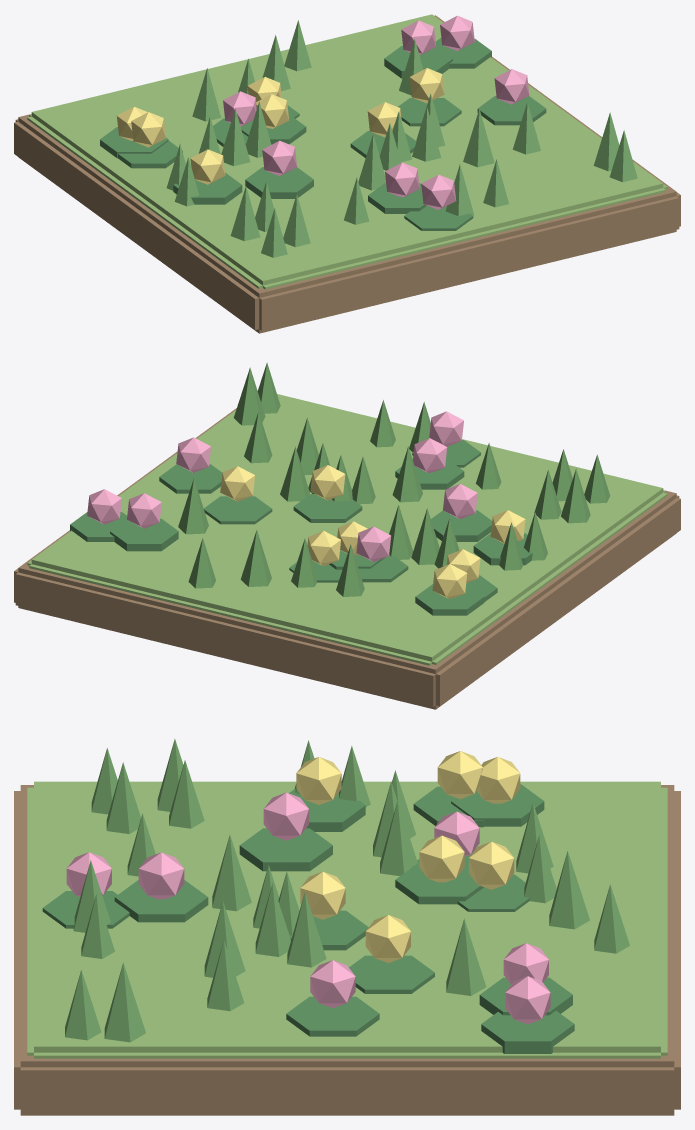
The model's file is HOB_Tile_FlowerGrass.fbx.
The picture shows the model from 3 angles, top to bottom: view 1: azimuth 30°, elevation 25°; view 2: azimuth 150°, elevation 25°; view 3: azimuth 270°, elevation 25°; orthographic projection. The views are drawn at different scales.
Parts seen in each view (by area): view 1: HOB_Tile_FlowerGrass; view 2: HOB_Tile_FlowerGrass; view 3: HOB_Tile_FlowerGrass.
Part boxes in pixels (<box>): HOB_Tile_FlowerGrass: <box>14,14,680,333</box>; HOB_Tile_FlowerGrass: <box>14,362,680,709</box>; HOB_Tile_FlowerGrass: <box>14,739,680,1115</box>.
Bounding box in the file's own units: 100 × 22.25 × 100.
